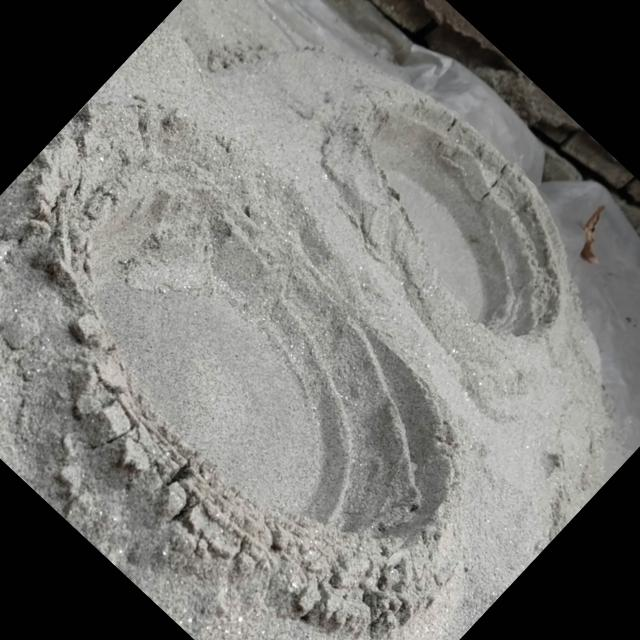C20: (91, 190, 446, 533), (342, 100, 559, 337)
